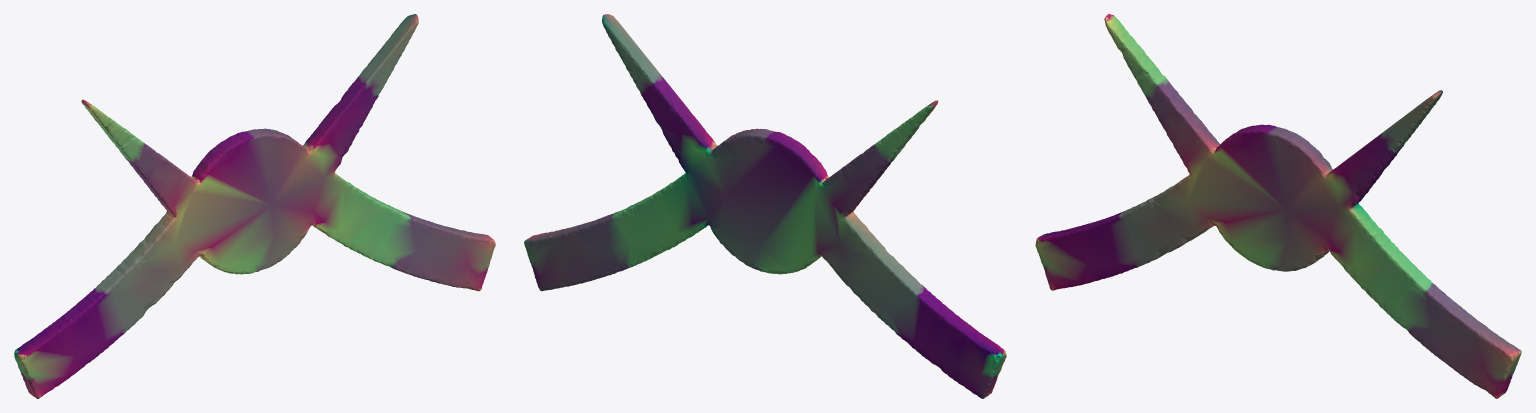
File: scissor-12.off.obj
3 views of the same model, side by side, from view 1: azimuth 30°, elevation 25°; view 2: azimuth 150°, elevation 25°; view 3: azimuth 330°, elevation 25° (orthographic).
Size of the model in its own units: 1.72 by 0.9977 by 0.0598.
